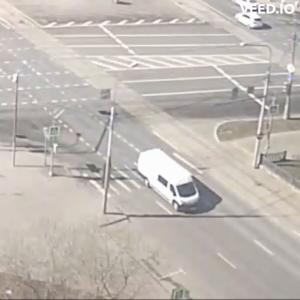car: (136, 151, 200, 216), (237, 13, 266, 31)
